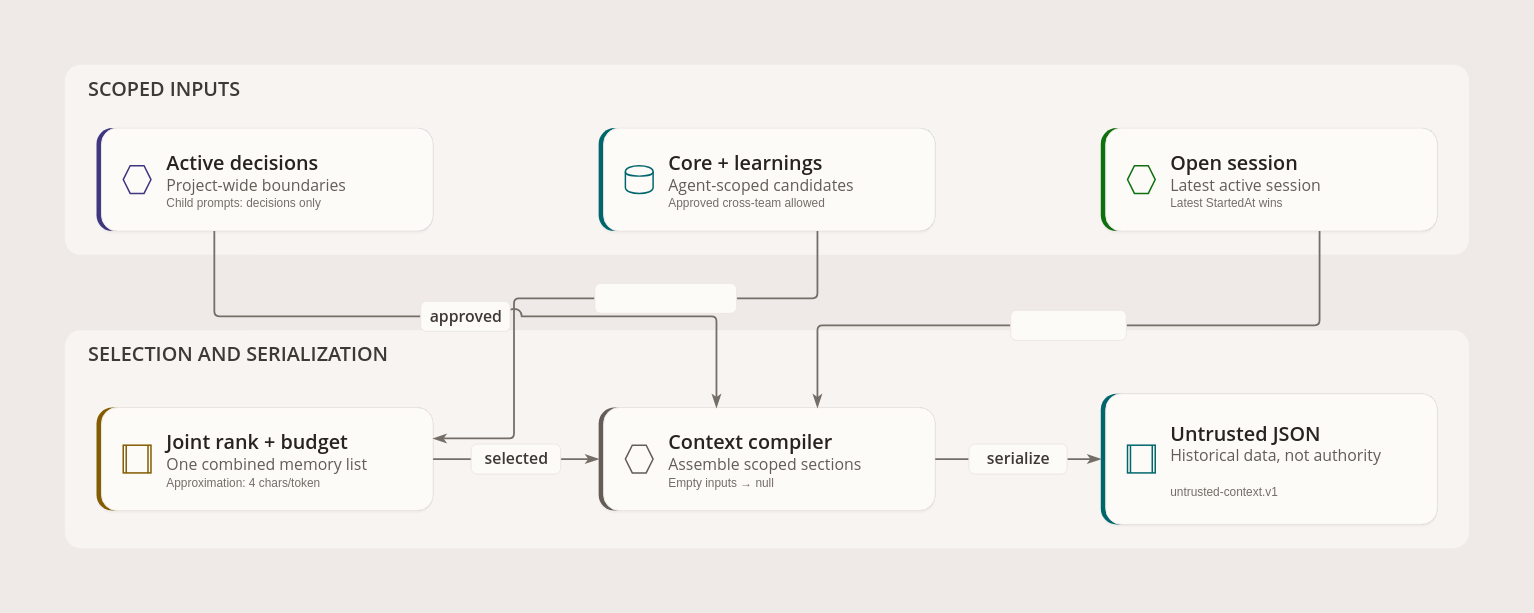
This 1534x613 diagram has some shape labels left out. The centre of each missing label's shape, as x and y in pixels:
"combine / sort" belongs at pixel 665 297.
"latest open" belongs at pixel 1068 324.
